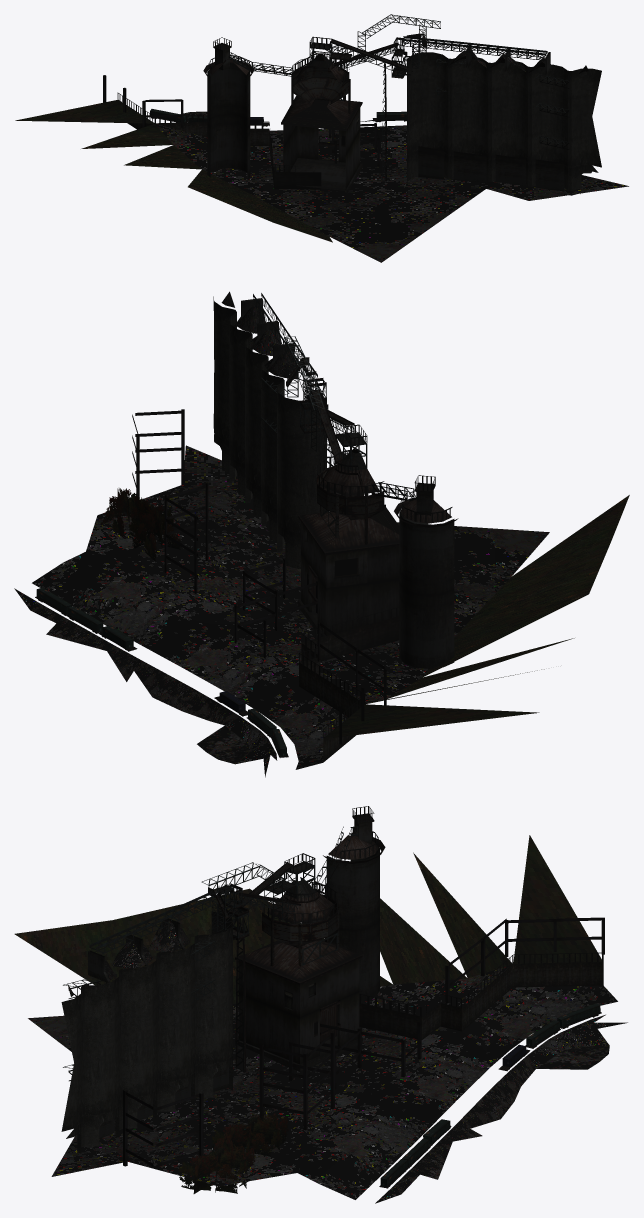
File: cell_11_0.gltf
The picture shows the model from 3 angles, top to bottom: view 1: azimuth 30°, elevation 25°; view 2: azimuth 150°, elevation 25°; view 3: azimuth 270°, elevation 25°; orthographic projection. The views are drawn at different scales.
Visible parts, largest first — view 1: cell_11_0; view 2: cell_11_0; view 3: cell_11_0.
Part boxes in pixels (x1,y1,x2,y2): cell_11_0: (15, 14, 628, 262); cell_11_0: (14, 291, 629, 777); cell_11_0: (14, 806, 627, 1203).
Bounding box in the file's own units: 327 × 128 × 293.
Materials: 21 (21 with a texture image).
